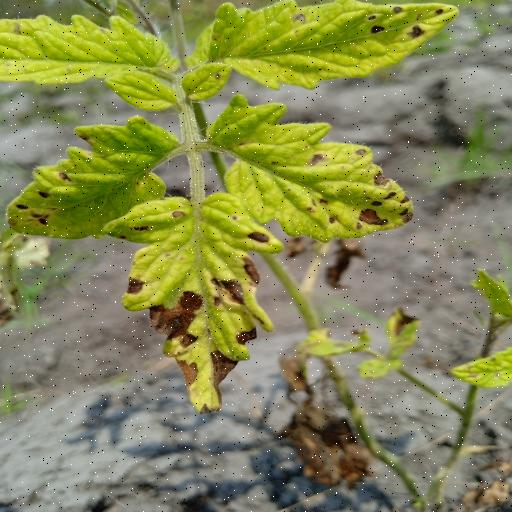Tomato_Brown_Spots: (102, 196, 290, 415), (207, 92, 420, 246), (194, 0, 458, 89), (4, 114, 187, 242), (0, 12, 181, 90)
